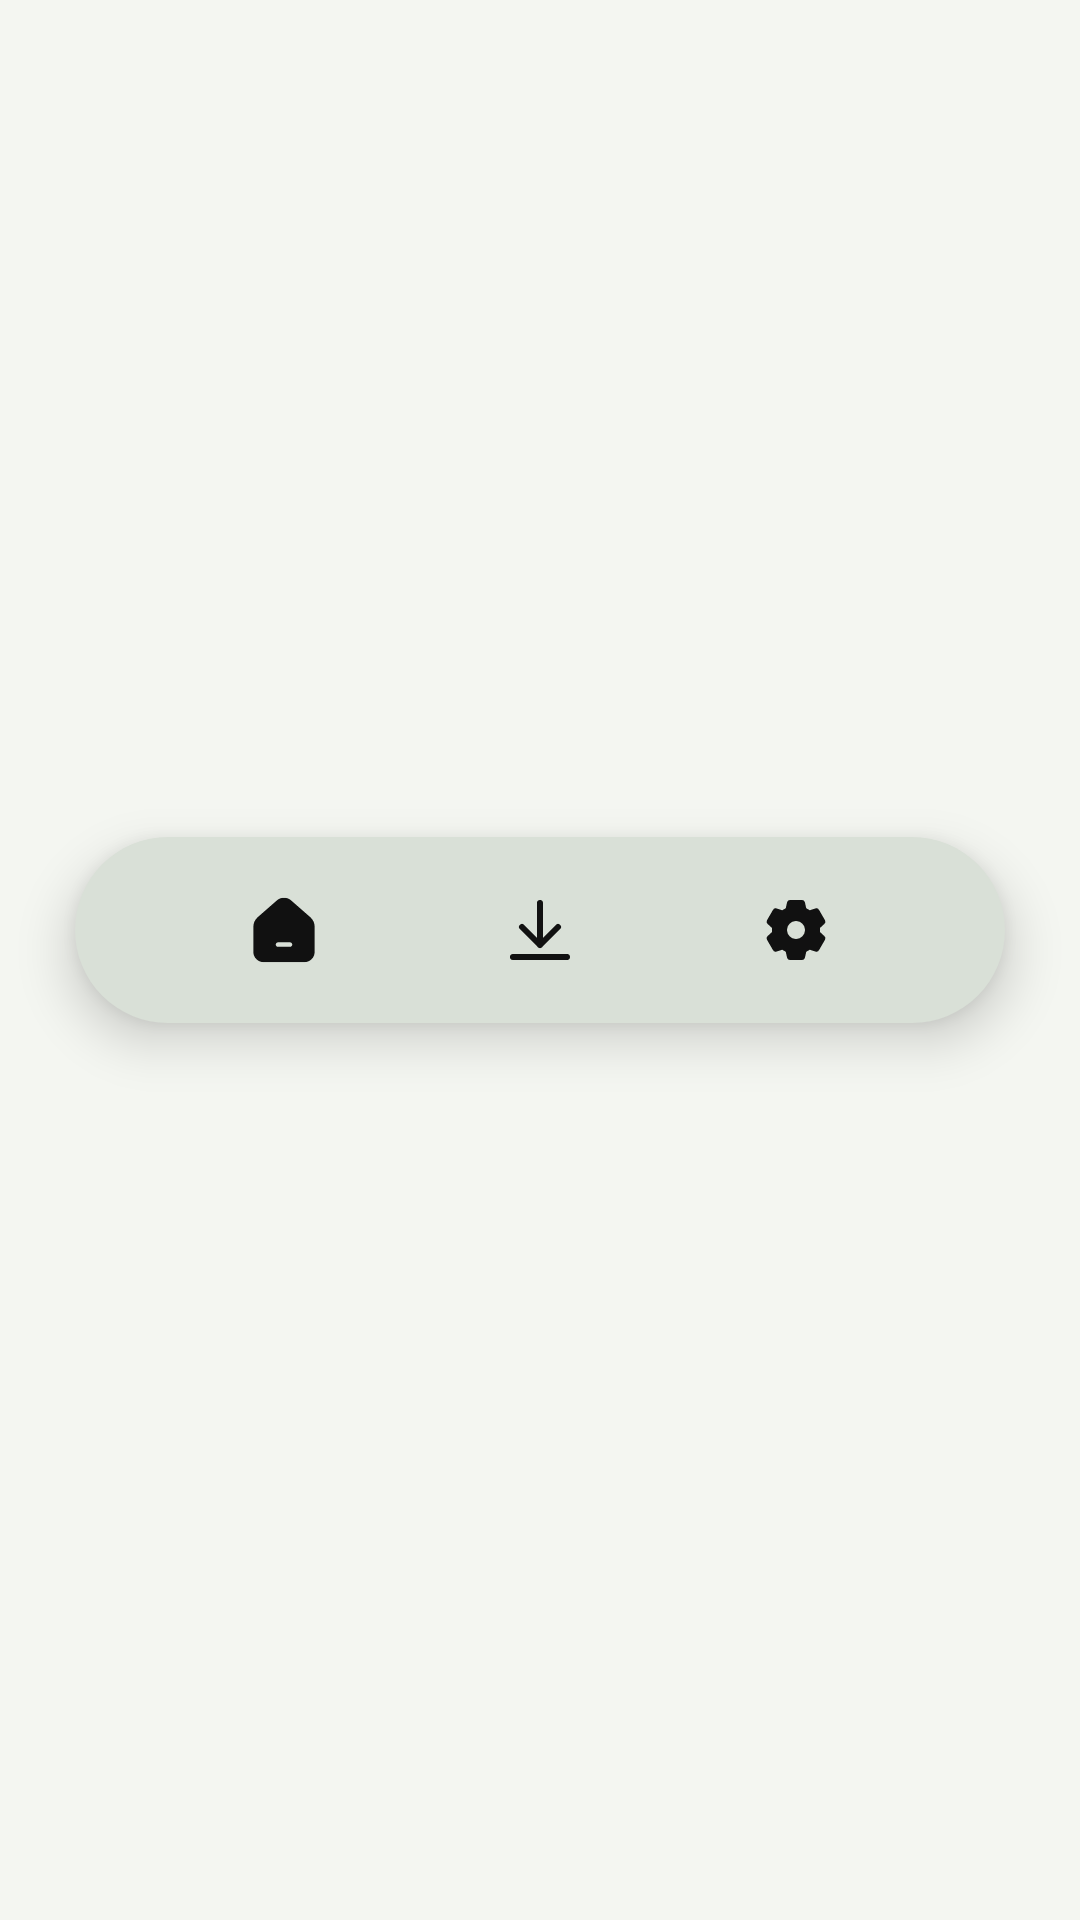

Icon click points for this 1080 × 1920 phone screenshot, format (x,y):
Downloads: (540,930)
home: (284,930)
Settings: (796,930)
